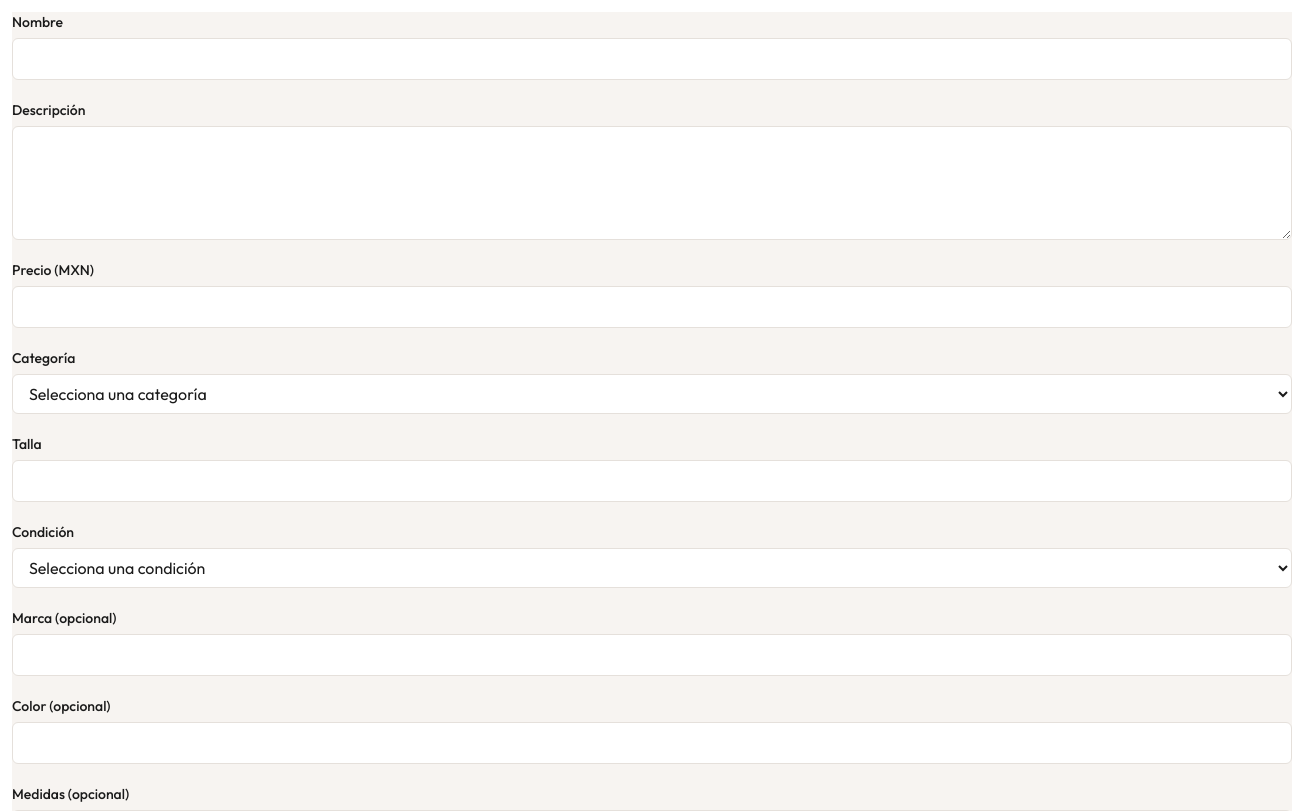
Scenario: ProductForm (create) › strips angle brackets from the name input
Step 1. Type "Cami<sa>" into the field labelled "Nombre" → point(652, 59), box [12,38,1292,80]
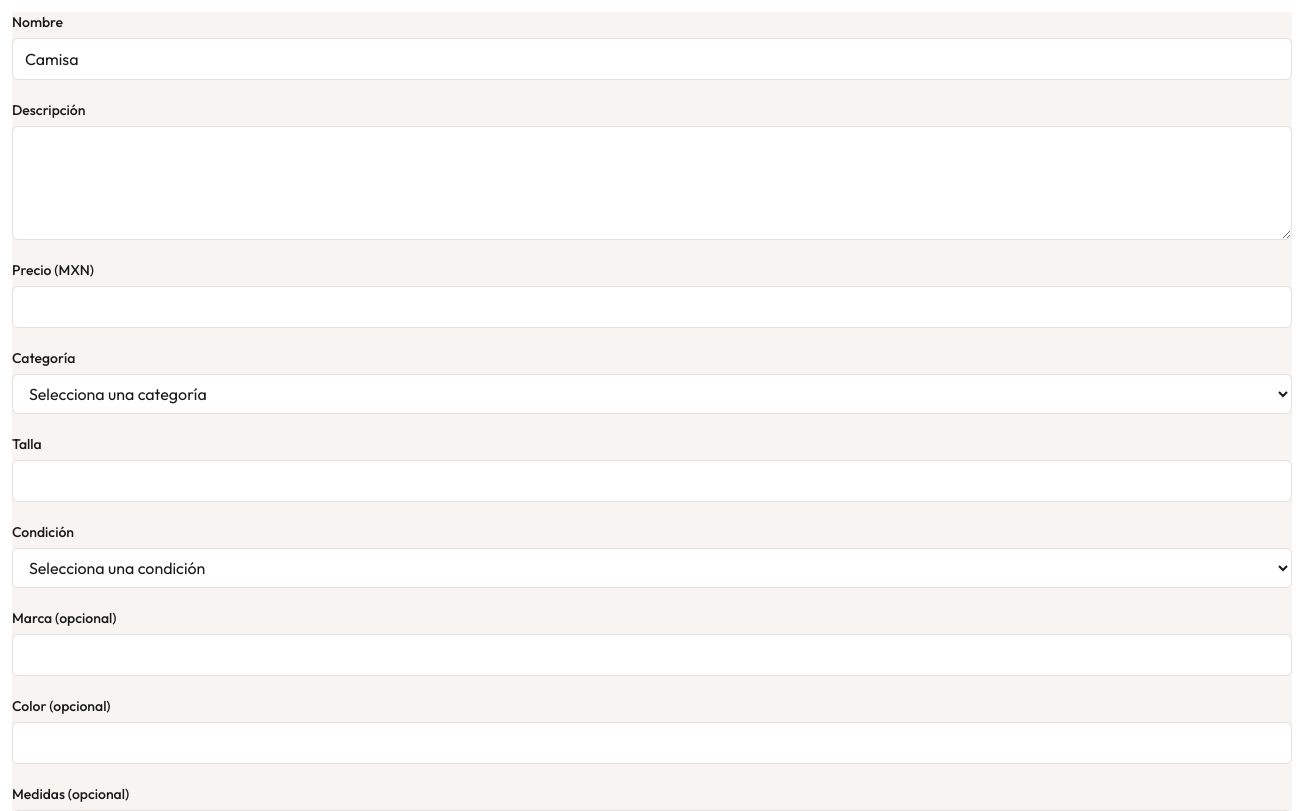
Result: the field labelled "Nombre" holds "Camisa" at [12,38,1292,80]
